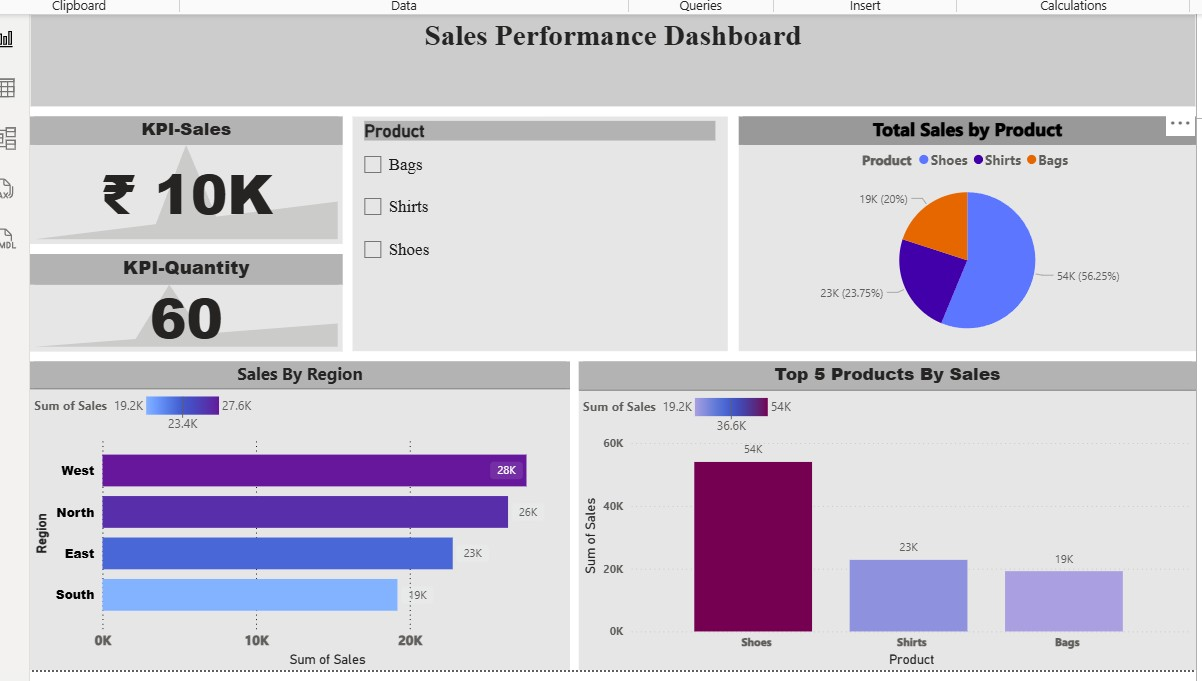

Layout of this report page (visuals, bound fields, positions):
{"tool":"powerbi","page":{"name":"Page 1","canvas":[1280,720],"ordinal":0},"visuals":[{"type":"barChart","title":"Sales By Region","fields":{"Y":["Sum(Sheet1.Sales)"],"Category":["Sheet1.Region"]},"box":[0,381.5,592.8,338.9],"z":0},{"type":"kpi","title":"KPI-Sales","fields":{"Indicator":["Sum(Sheet1.Sales)"],"TrendLine":["Sheet1.Sales"]},"box":[0,112.5,343.1,140],"z":1000},{"type":"pieChart","title":"Total Sales by Product","fields":{"Y":["Sum(Sheet1.Sales)"],"Category":["Sheet1.Product"]},"box":[778,112.5,502.2,258],"z":2000},{"type":"columnChart","title":"Top 5 Products By Sales","fields":{"Y":["Sum(Sheet1.Sales)"],"Category":["Sheet1.Product"]},"box":[602.4,381.5,677.9,338.9],"z":3000},{"type":"slicer","fields":{"Values":["Sheet1.Product"]},"box":[354,112.5,411.7,258],"z":4000},{"type":"textbox","box":[0,0,1280.3,101.5],"z":4001},{"type":"kpi","title":"KPI-Quantity","fields":{"TrendLine":["Sheet1.Quantity"],"Indicator":["Sum(Sheet1.Quantity)"]},"box":[0,263.5,343.1,107],"z":4002}]}

Visuals, with their boxes on the page's 1280x720 design canvas (x1, y1, x2, y2). These are canvas units, not pixel positions in the 1202x681 screenshot, which may show the page scaled, cropped or inside an application window:
"Sales By Region" barChart: (0,382,593,720)
"KPI-Sales" kpi: (0,112,343,252)
"Total Sales by Product" pieChart: (778,112,1280,370)
"Top 5 Products By Sales" columnChart: (602,382,1280,720)
slicer - Sheet1.Product: (354,112,766,370)
textbox: (0,0,1280,102)
"KPI-Quantity" kpi: (0,264,343,370)
